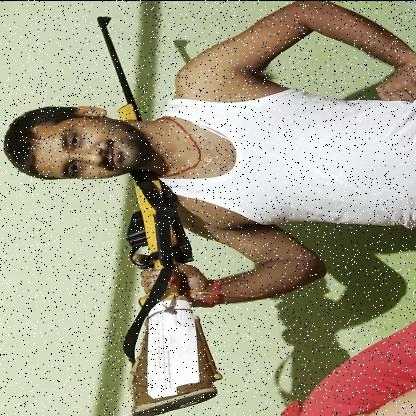rifle: (93, 13, 226, 416)
